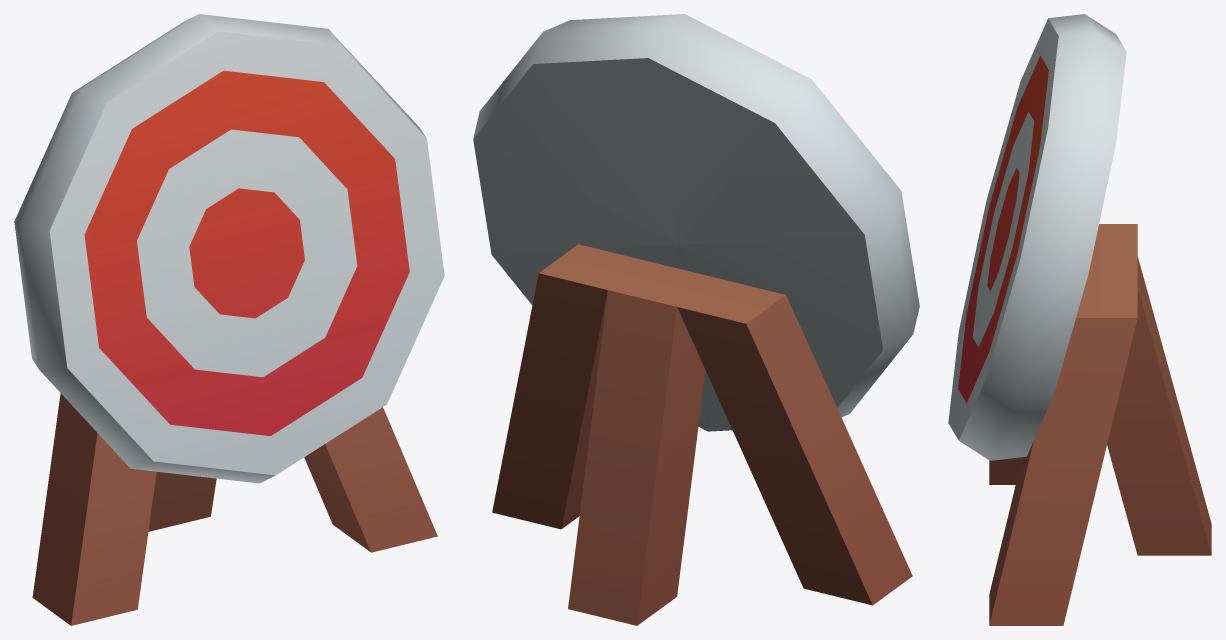
File: target.glb
The picture shows the model from 3 angles, left to right: view 1: azimuth 30°, elevation 25°; view 2: azimuth 150°, elevation 25°; view 3: azimuth 270°, elevation 25°; orthographic projection. The views are drawn at different scales.
Visible parts, largest first — view 1: target; view 2: target; view 3: target.
Boxes of the visible parts, x1,y1,x2,y2 form: target: [14, 14, 444, 625]; target: [473, 14, 919, 625]; target: [948, 14, 1211, 625].
Bounding box in the file's own units: 0.2393 × 0.3018 × 0.1421.
Materials: 1 (1 with a texture image).
